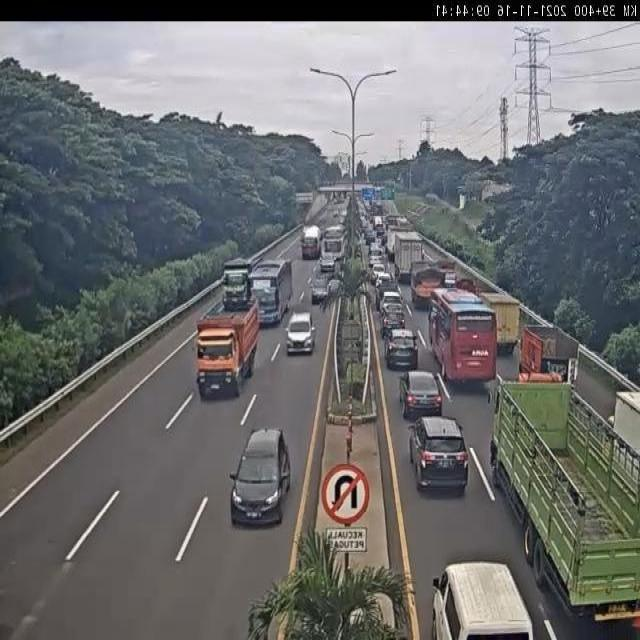Bus: (429, 289, 496, 380), (253, 258, 293, 324)
Car: (430, 561, 534, 639), (229, 426, 291, 528), (407, 414, 469, 493), (346, 591, 398, 636), (399, 370, 442, 420), (384, 329, 420, 371), (286, 310, 316, 354)
Truck: (490, 384, 640, 624), (196, 301, 258, 399), (518, 324, 578, 383), (408, 262, 442, 304), (394, 232, 424, 278), (223, 257, 251, 303), (319, 228, 346, 272), (302, 226, 322, 258)
